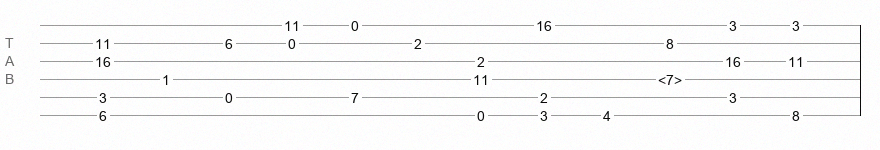0: (225, 90, 233, 100), (288, 36, 296, 46), (351, 18, 359, 28), (477, 108, 485, 118)
1: (162, 72, 170, 82)
11: (95, 36, 111, 46), (284, 18, 300, 28), (473, 72, 489, 82), (788, 54, 804, 64)
16: (95, 54, 111, 64), (536, 18, 552, 28), (725, 54, 741, 64)
2: (414, 36, 422, 46), (477, 54, 485, 64), (540, 90, 548, 100)
3: (99, 90, 107, 100), (540, 108, 548, 118), (729, 90, 737, 100), (729, 18, 737, 28), (792, 18, 800, 28)
4: (603, 108, 611, 118)
6: (99, 108, 107, 118), (225, 36, 233, 46)
7: (351, 90, 359, 100)
8: (666, 36, 674, 46), (792, 108, 800, 118)
harmonic: (658, 72, 682, 82)
